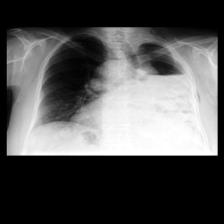tuberculosis: (29, 29, 201, 151)
